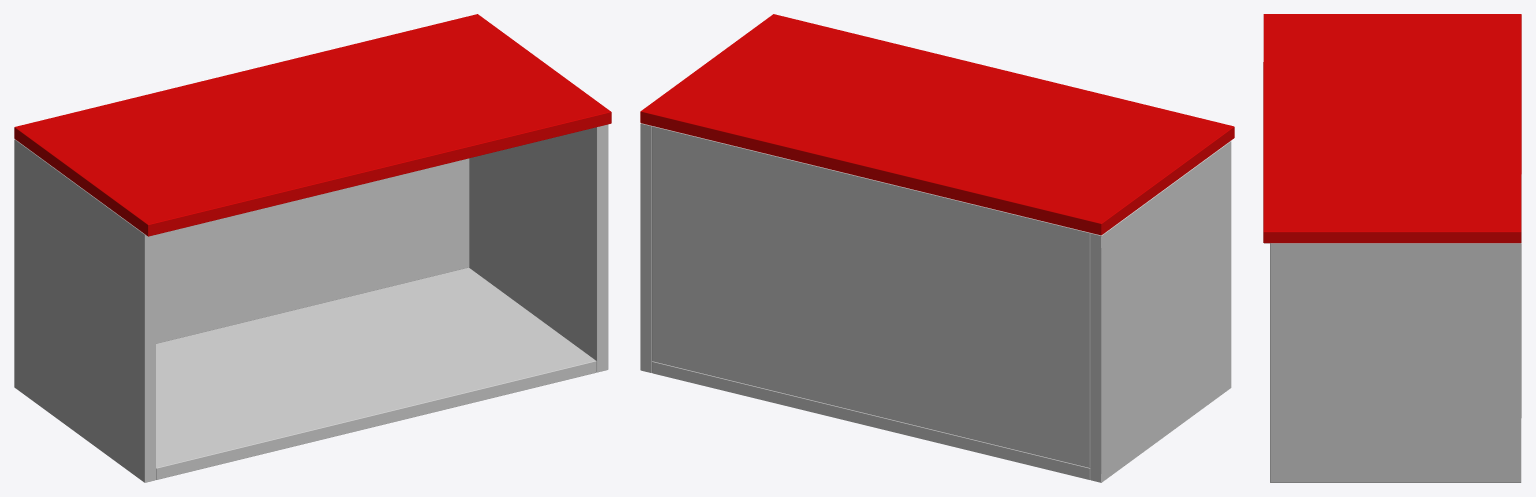
Rendered from UnderBench03_WithoutWheels.fbx.
The picture shows the model from 3 angles, left to right: view 1: azimuth 30°, elevation 25°; view 2: azimuth 150°, elevation 25°; view 3: azimuth 270°, elevation 25°; orthographic projection. The views are drawn at different scales.
Parts seen in each view (by area): view 1: UnderBench03c; view 2: UnderBench03c; view 3: UnderBench03c.
Boxes of the visible parts, box(x1,y1,x2,y2) form: UnderBench03c: box(14, 14, 611, 482); UnderBench03c: box(640, 14, 1234, 482); UnderBench03c: box(1263, 14, 1521, 482).
Bounding box in the file's own units: 100 × 53.75 × 50.
